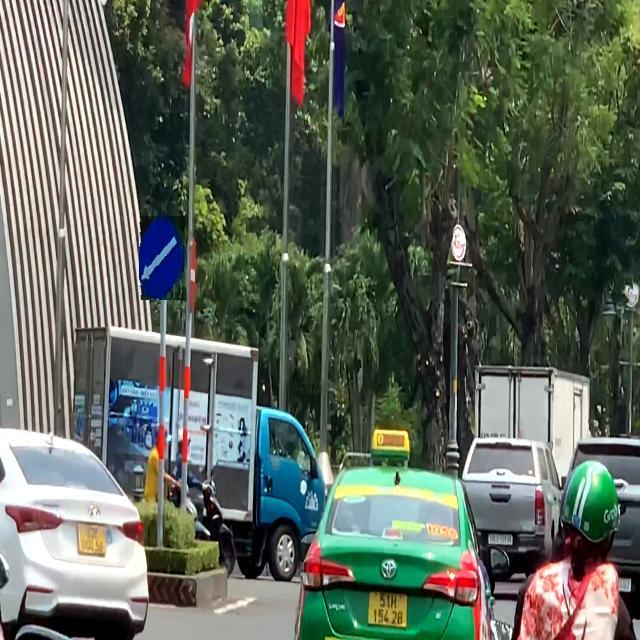R-302b: (139, 216, 185, 300)
